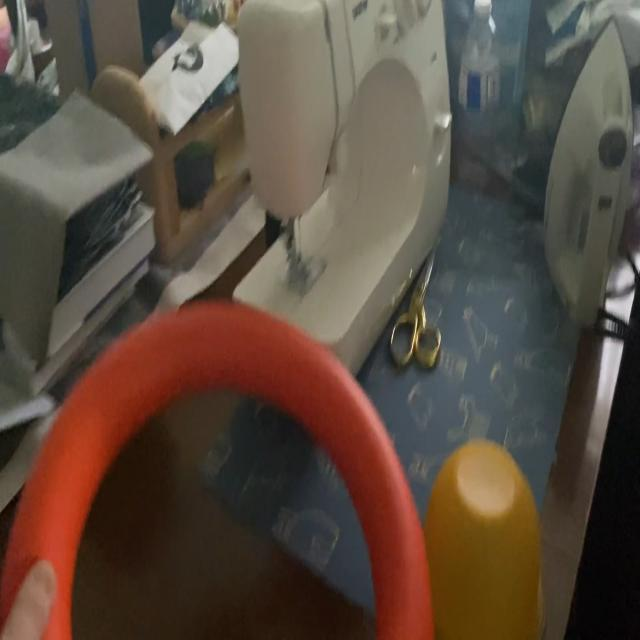note: (0, 296, 438, 640)
